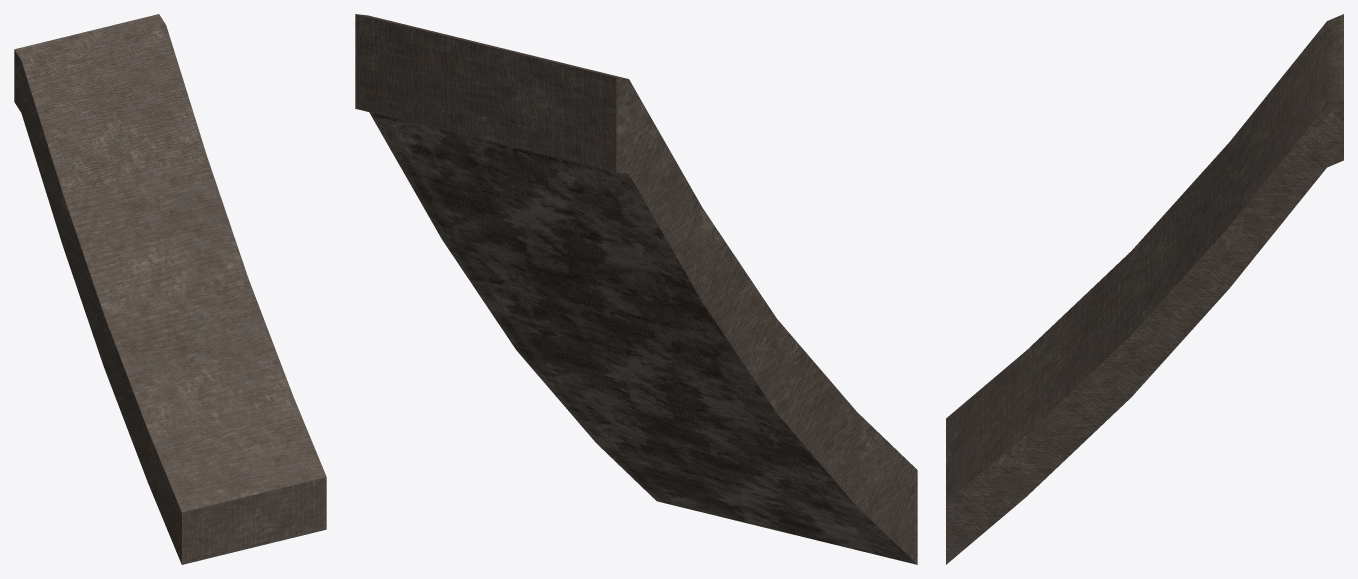
File: ShrineModule_Roof-04.fbx
The picture shows the model from 3 angles, left to right: view 1: azimuth 30°, elevation 25°; view 2: azimuth 150°, elevation 25°; view 3: azimuth 270°, elevation 25°; orthographic projection. The views are drawn at different scales.
Visible parts, largest first — view 1: ShrineModule_Roof-04; view 2: ShrineModule_Roof-04; view 3: ShrineModule_Roof-04.
Part boxes in pixels (box(x1,y1,x2,y2)): ShrineModule_Roof-04: box(14, 14, 326, 564); ShrineModule_Roof-04: box(355, 14, 917, 564); ShrineModule_Roof-04: box(946, 14, 1343, 564).
Bounding box in the file's own units: 1.5 × 3.89 × 3.
